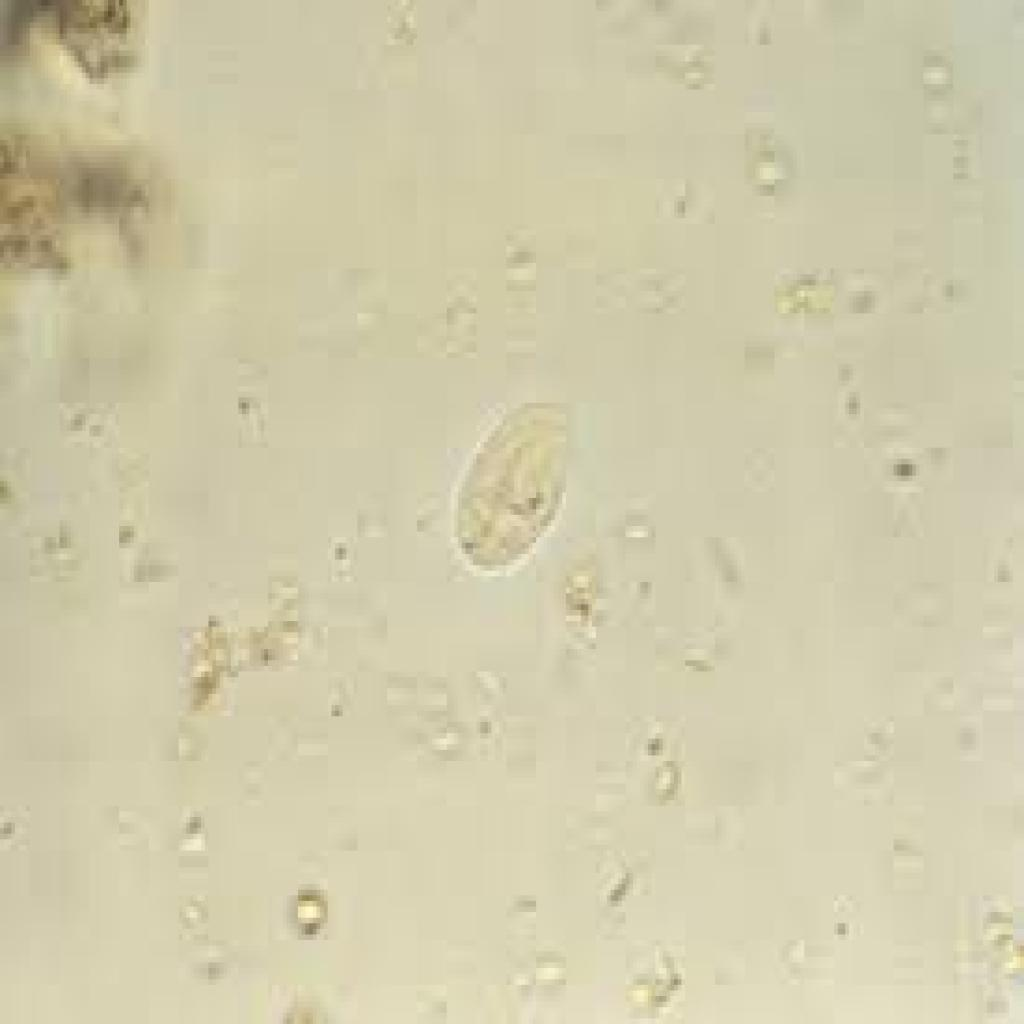Giardia: (447, 392, 573, 576)
